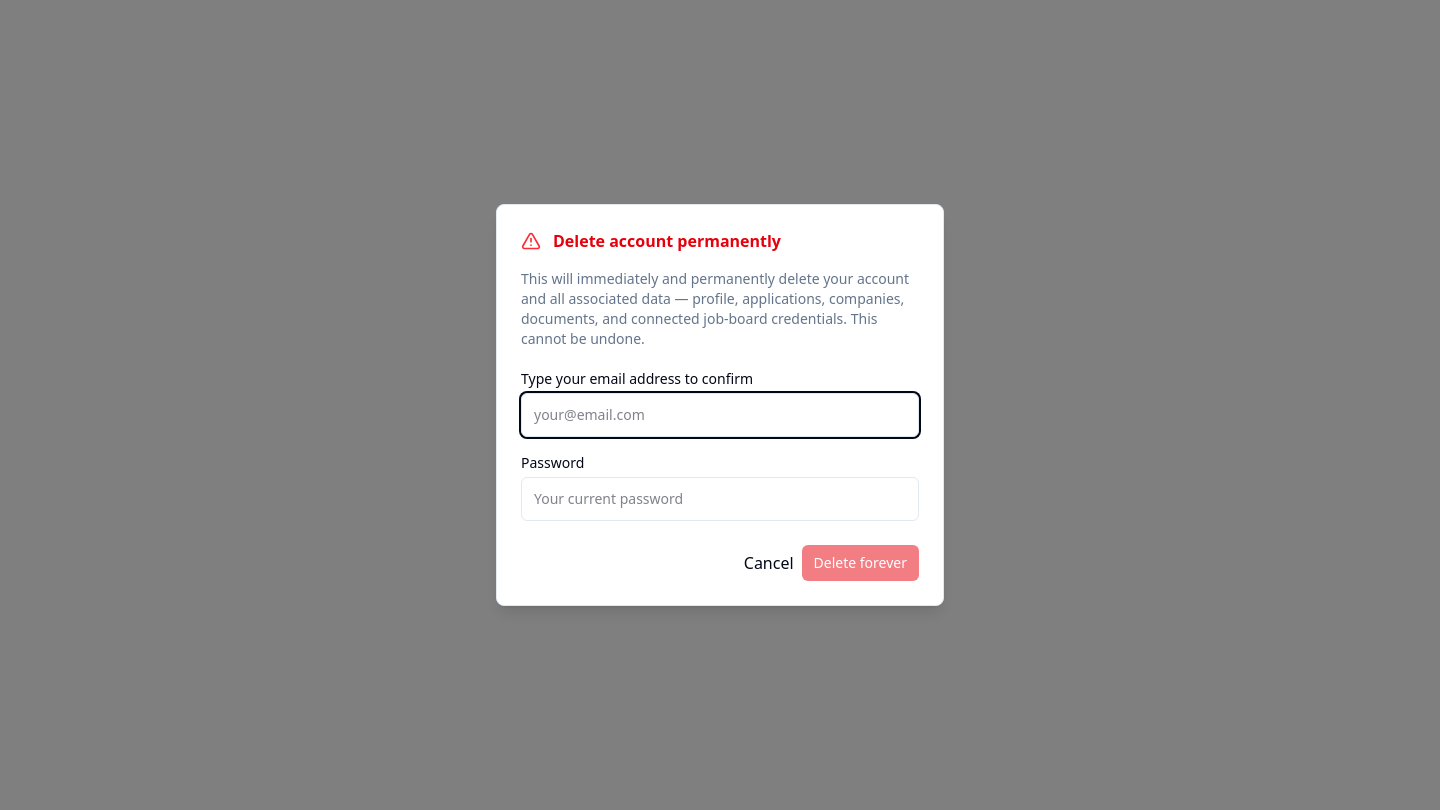
Test: DeleteAccountModal › enables the delete button once email and password are filled (no TOTP)
Type "user@example.com" into the field labelled "Type your email address to confirm". click: point(720, 415)
box: [521, 393, 919, 437]
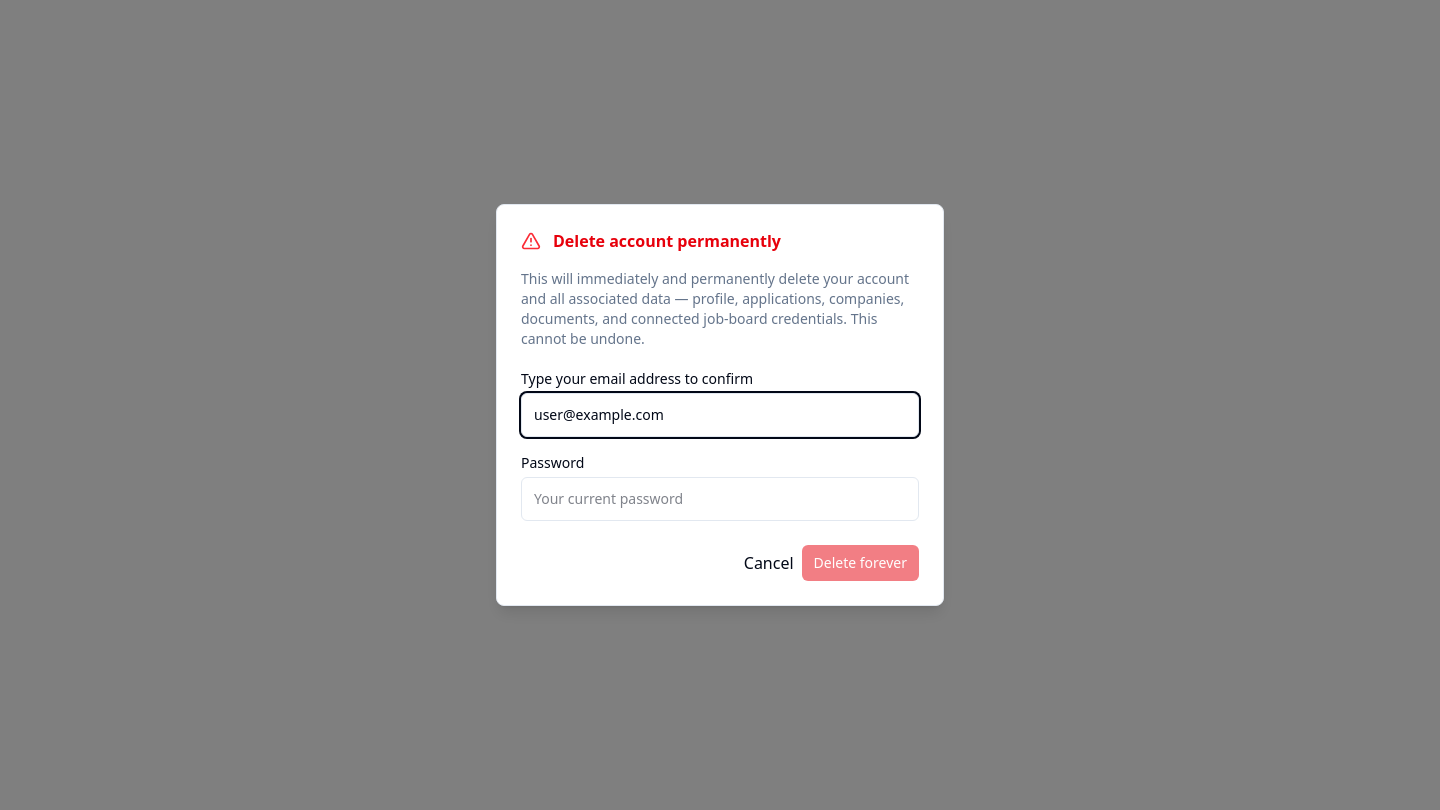
Type "secret123!" into the password field labelled "Password". click: point(720, 499)
box: [521, 477, 919, 521]
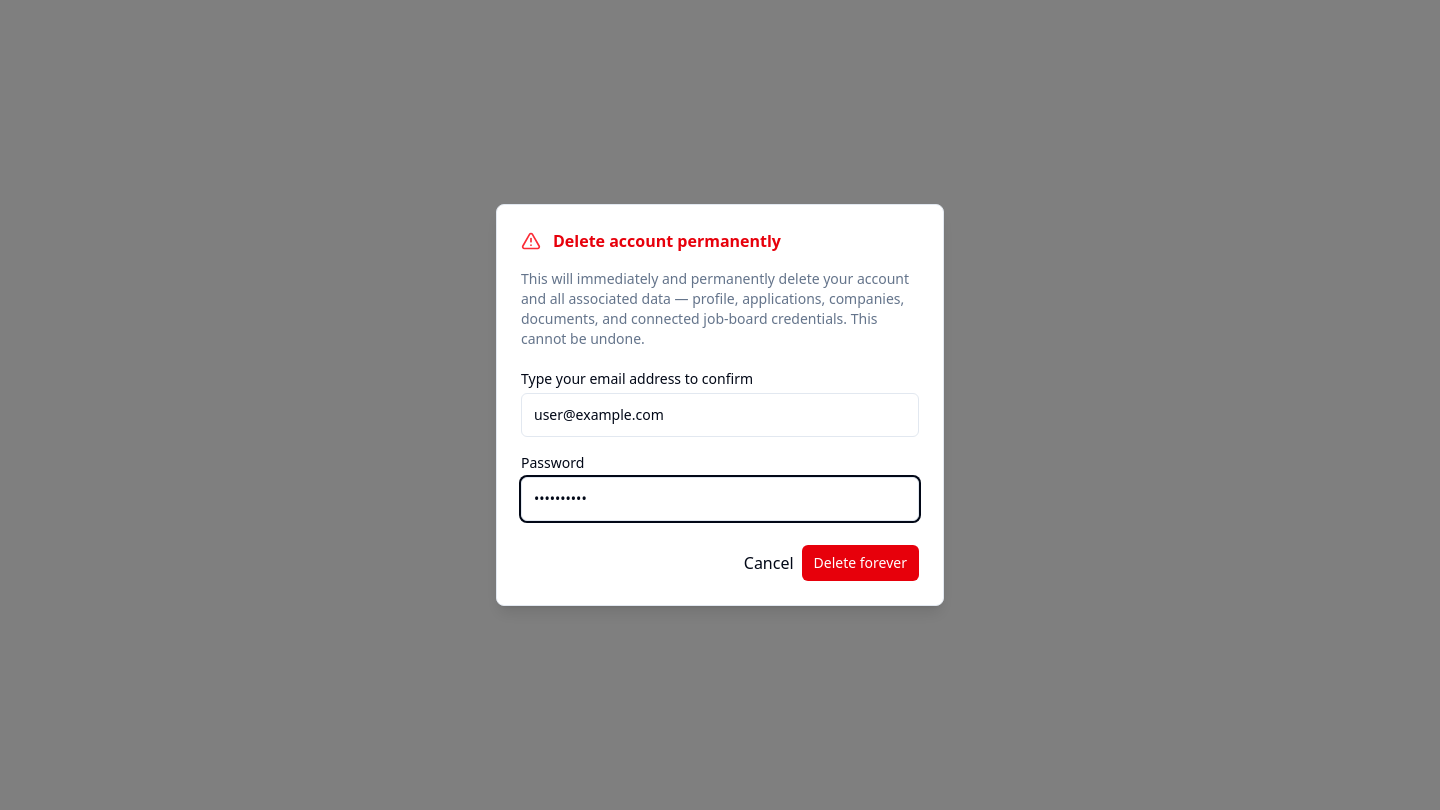
Expected: the button "Delete forever" is enabled, [802, 545, 919, 581]
